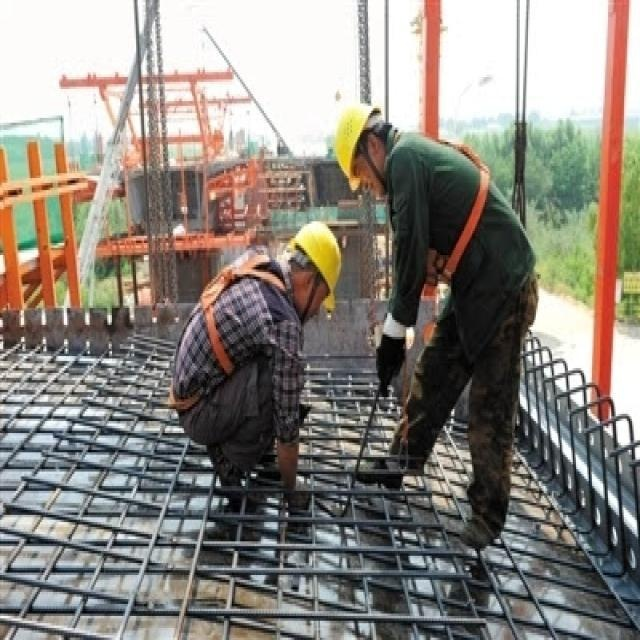Arnes_seguridad: (387, 120, 496, 289), (189, 243, 294, 378)
